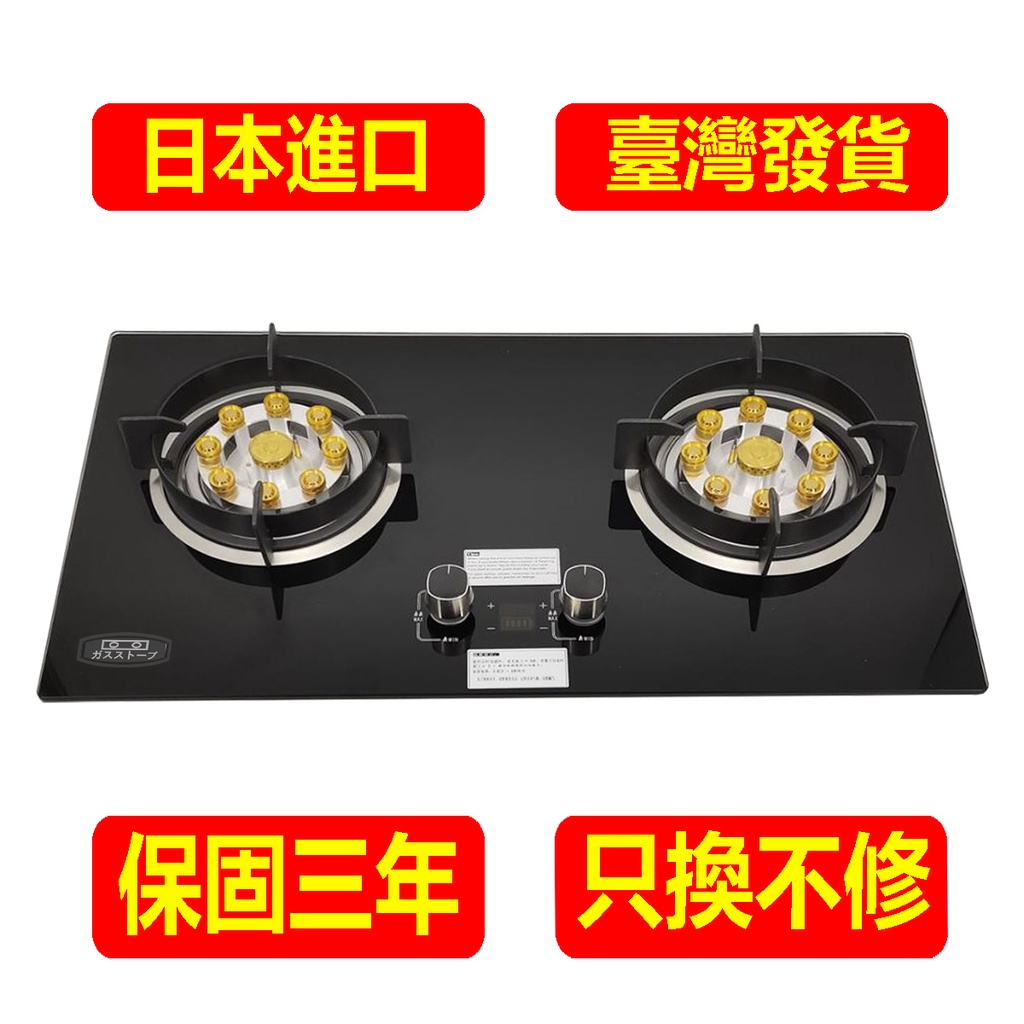gasoven: (36, 319, 1005, 721)
